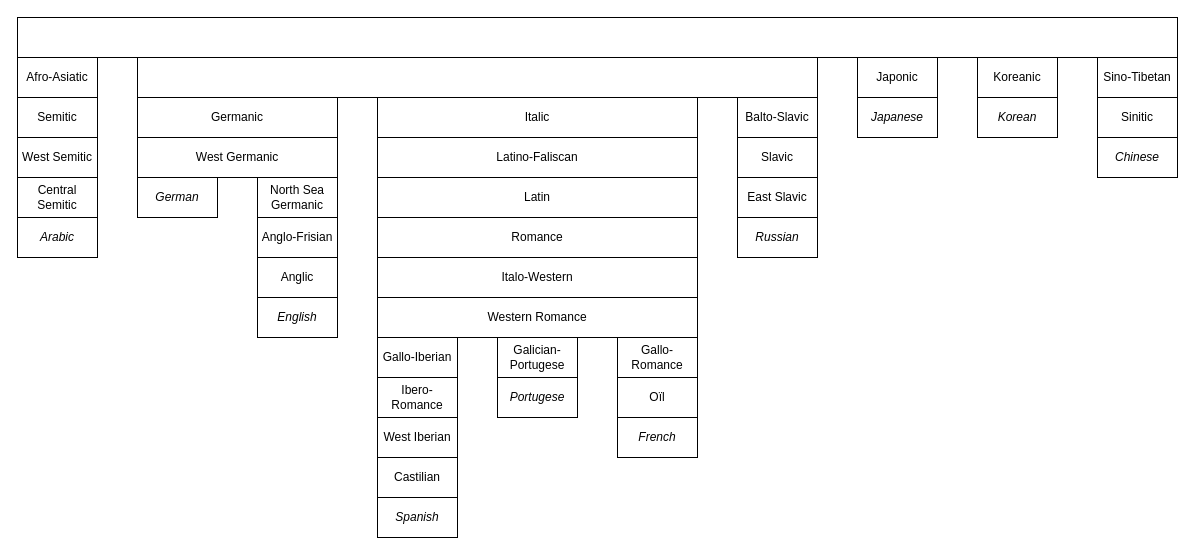
This 1195x555 diagram has some shape labels left out. The shapes that lost their labels are listed below. From the top down, each one's centre as x and y in pixels, then its label:
At point 597,37: "Languages".
At point 477,77: "Indo-European".
